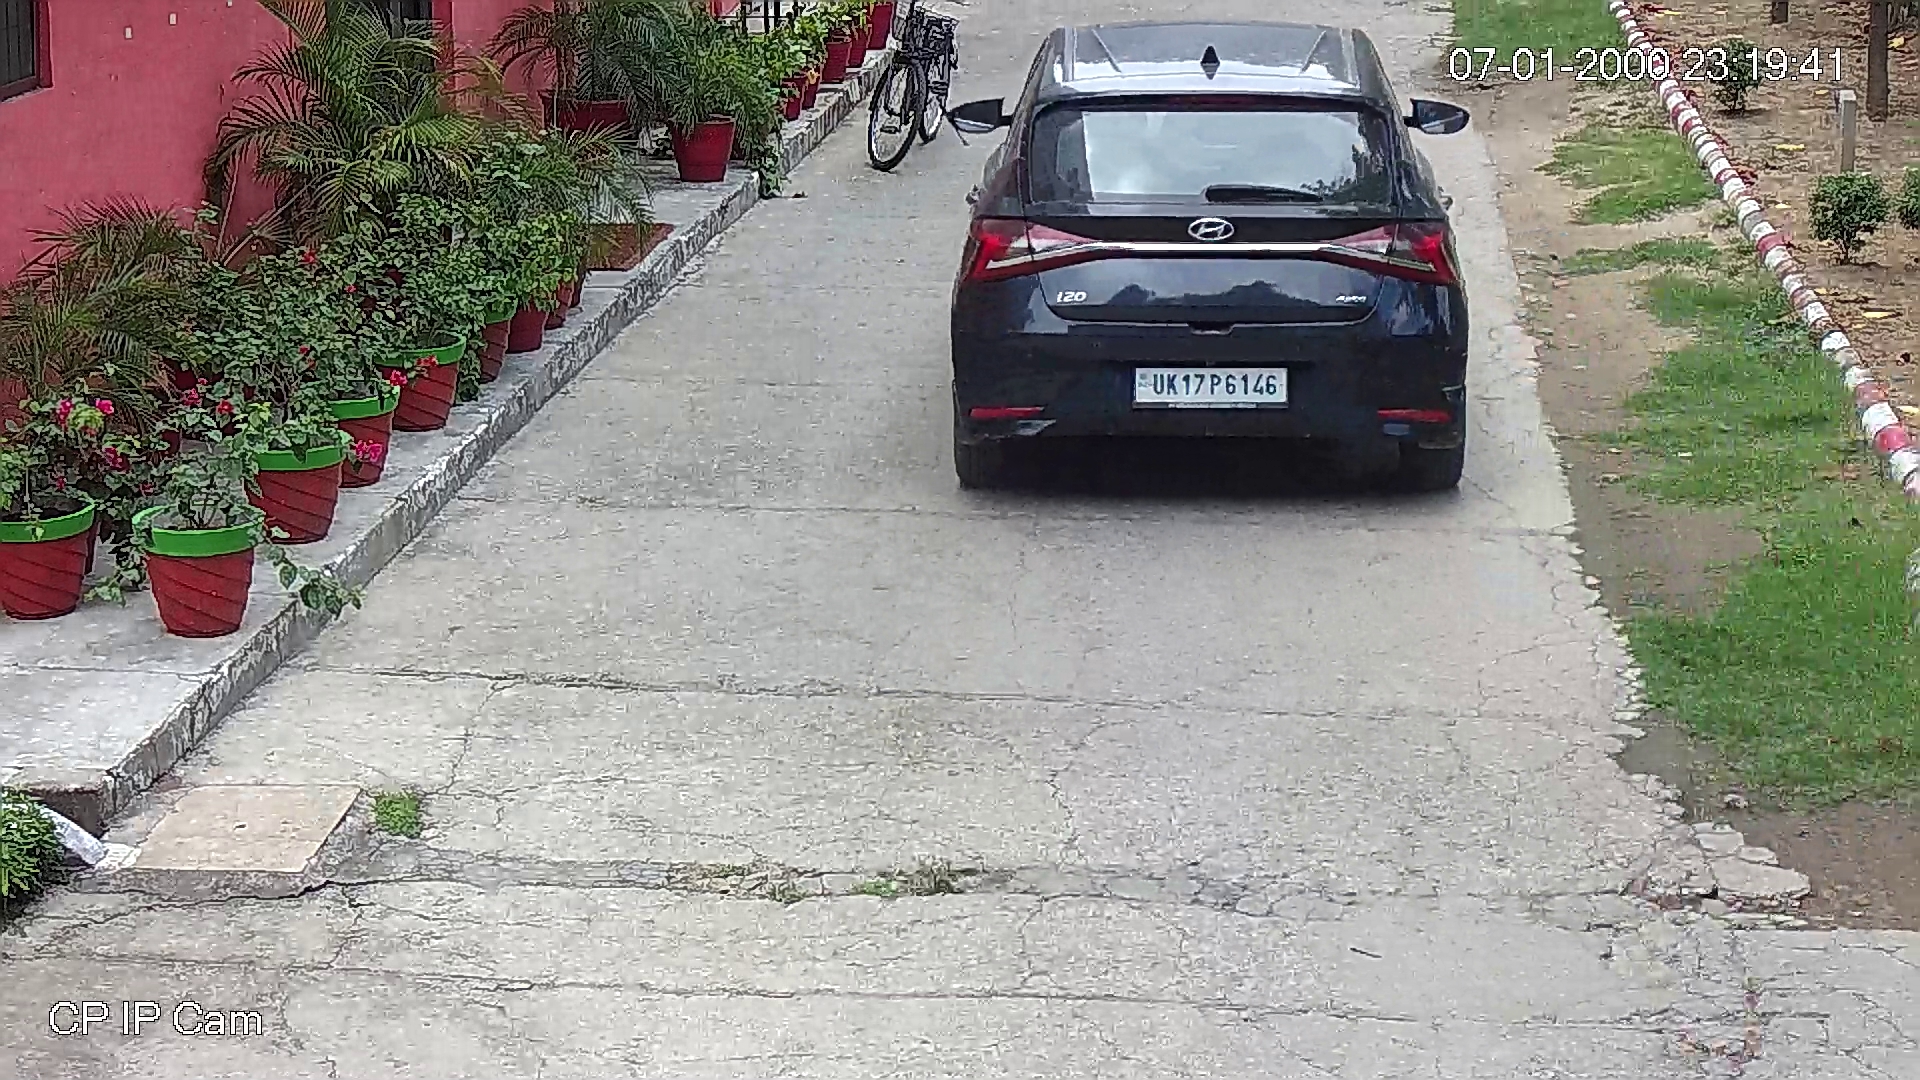plate: (1133, 363, 1289, 405)
